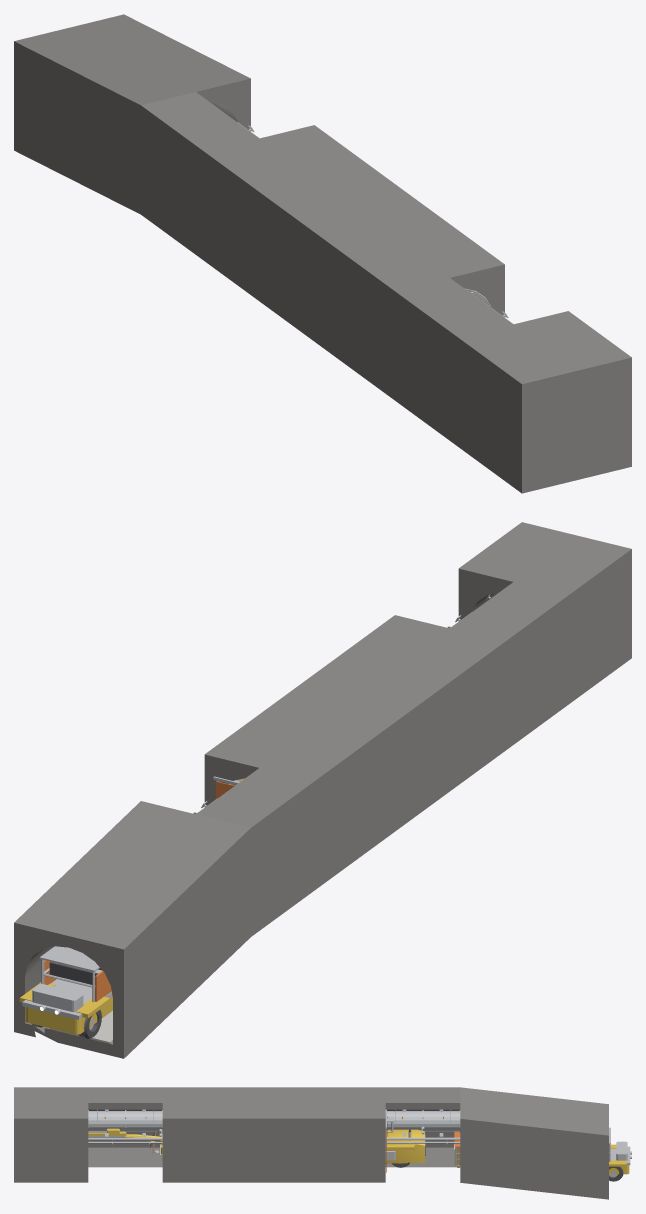
File: underground-mine-and-shaft-works-drift-run-to-face-9caece0b.glb
The picture shows the model from 3 angles, top to bottom: view 1: azimuth 30°, elevation 25°; view 2: azimuth 150°, elevation 25°; view 3: azimuth 270°, elevation 25°; orthographic projection. The views are drawn at different scales.
Parts seen in each view (by area): view 1: 000-drift-incline-ramp/0, 006-drift-dead-end-face/0, 004-drift-shotcrete-lined/1, 002-drift-timbered-set/0, 003-drift-steel-arch-set/0, 001-drift-cutaway-study/0, 005-drift-cutaway-study/0; view 2: 000-drift-incline-ramp/0, 006-drift-dead-end-face/0, 002-drift-timbered-set/0, 003-drift-steel-arch-set/0, 004-drift-shotcrete-lined/1, 005-drift-cutaway-study/0, 001-drift-cutaway-study/0, 009-personnel-carrier/1, 009-personnel-carrier/0; view 3: 000-drift-incline-ramp/0, 002-drift-timbered-set/0, 003-drift-steel-arch-set/0, 004-drift-shotcrete-lined/1, 006-drift-dead-end-face/0, 005-drift-cutaway-study/0, 001-drift-cutaway-study/0, 014-vent-duct-run/0, 010-vent-duct-run/0, 008-roof-bolter/0, 005-drift-cutaway-study/1, 001-drift-cutaway-study/1 (+4 smaller).
Boxes of the visible parts, box(x1,y1,x2,y2) form: 000-drift-incline-ramp/0: box(14, 14, 250, 214); 006-drift-dead-end-face/0: box(458, 311, 631, 493); 004-drift-shotcrete-lined/1: box(331, 218, 504, 400); 002-drift-timbered-set/0: box(204, 125, 377, 307); 003-drift-steel-arch-set/0: box(268, 171, 440, 353); 001-drift-cutaway-study/0: box(141, 92, 258, 260); 005-drift-cutaway-study/0: box(395, 278, 512, 446); 000-drift-incline-ramp/0: box(14, 801, 250, 1058); 006-drift-dead-end-face/0: box(458, 522, 631, 704); 002-drift-timbered-set/0: box(204, 708, 377, 890); 003-drift-steel-arch-set/0: box(268, 661, 441, 843); 004-drift-shotcrete-lined/1: box(332, 615, 504, 797); 005-drift-cutaway-study/0: box(450, 582, 568, 750); 001-drift-cutaway-study/0: box(196, 768, 314, 936); 009-personnel-carrier/1: box(22, 946, 112, 1019); 009-personnel-carrier/0: box(19, 982, 112, 1034); 000-drift-incline-ramp/0: box(460, 1087, 608, 1199); 002-drift-timbered-set/0: box(311, 1087, 385, 1182); 003-drift-steel-arch-set/0: box(237, 1087, 311, 1182); 004-drift-shotcrete-lined/1: box(162, 1087, 236, 1182); 006-drift-dead-end-face/0: box(14, 1087, 88, 1182); 005-drift-cutaway-study/0: box(88, 1087, 162, 1167); 001-drift-cutaway-study/0: box(385, 1087, 460, 1167); 014-vent-duct-run/0: box(88, 1109, 162, 1131); 010-vent-duct-run/0: box(387, 1110, 460, 1132); 008-roof-bolter/0: box(385, 1129, 424, 1163); 005-drift-cutaway-study/1: box(88, 1109, 162, 1144); 001-drift-cutaway-study/1: box(386, 1109, 460, 1144).
Bounding box in the file's own units: 4 × 4.8 × 33.24.
